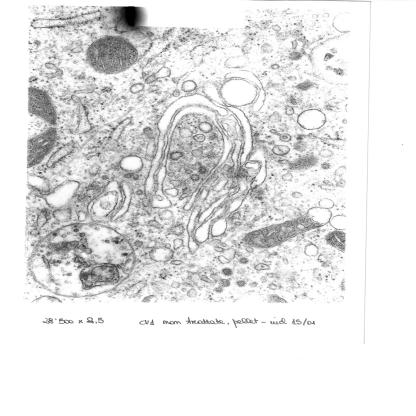mitochondria: (238, 205, 337, 249), (85, 32, 142, 75)
